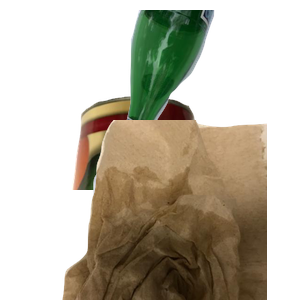glass: (109, 10, 300, 167)
metal: (69, 93, 265, 273)
plastic: (91, 152, 281, 300)
trash: (60, 120, 300, 300)
